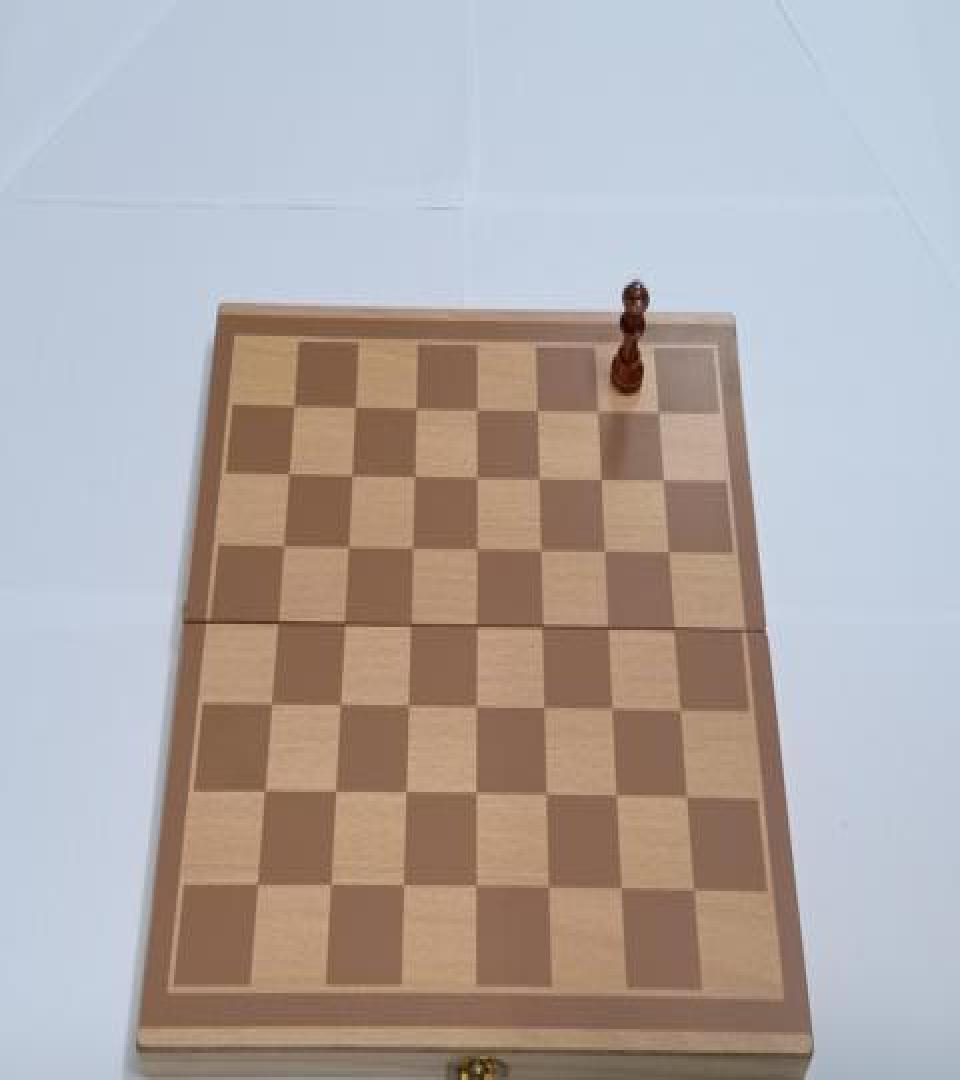xcorner: (345, 394, 363, 422), (330, 694, 348, 722), (405, 394, 423, 422), (591, 466, 609, 494), (284, 393, 302, 420), (279, 462, 297, 489), (273, 534, 291, 561), (268, 610, 286, 637), (262, 693, 280, 720), (256, 780, 274, 807), (249, 874, 267, 901), (341, 462, 359, 489), (334, 612, 352, 639), (322, 874, 340, 901), (399, 696, 417, 723), (397, 783, 415, 810), (395, 876, 413, 903), (466, 396, 484, 423), (466, 465, 484, 492), (467, 537, 485, 564), (467, 615, 485, 642), (467, 696, 485, 723), (468, 785, 486, 812), (527, 397, 545, 424), (529, 465, 547, 492), (531, 538, 549, 565), (533, 615, 551, 642), (539, 785, 557, 812), (541, 879, 559, 906), (587, 397, 605, 424), (595, 540, 613, 567), (600, 617, 618, 644), (604, 699, 622, 726), (609, 786, 627, 813), (614, 879, 632, 906), (648, 399, 666, 426), (654, 468, 672, 495), (660, 540, 678, 567), (666, 618, 684, 645), (673, 699, 691, 726), (687, 880, 705, 907), (338, 536, 356, 562), (326, 782, 344, 808), (404, 464, 422, 490), (402, 536, 420, 562), (401, 614, 419, 640), (468, 878, 486, 904), (536, 698, 554, 724), (680, 788, 698, 814)
